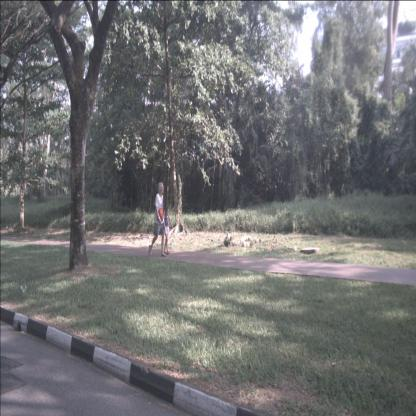human-pedestrian-adult: (149, 182, 167, 257)
